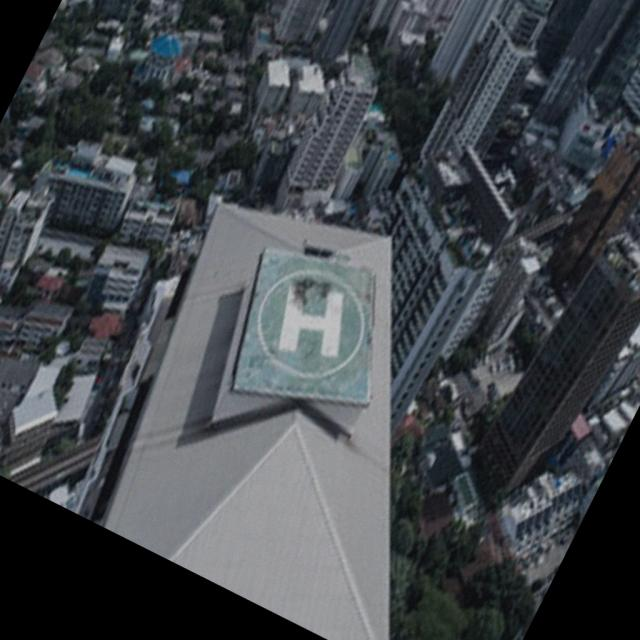helipad: (255, 267, 365, 380)
